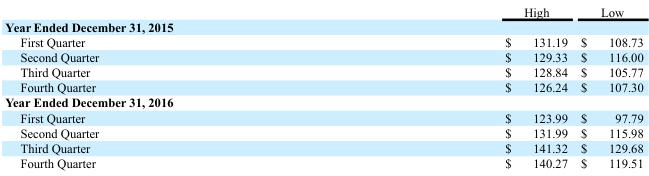table: (4, 4, 642, 169)
table column: (4, 4, 301, 169), (301, 4, 573, 169), (573, 4, 642, 169)
table column header: (4, 4, 642, 18)
table projected row header: (4, 18, 642, 33), (4, 94, 642, 109)
table row: (4, 33, 642, 49), (4, 124, 642, 140), (4, 18, 642, 33), (4, 49, 642, 64), (4, 64, 642, 79), (4, 79, 642, 94), (4, 94, 642, 109), (4, 109, 642, 124), (4, 140, 642, 155), (4, 4, 642, 18), (4, 155, 642, 169)
